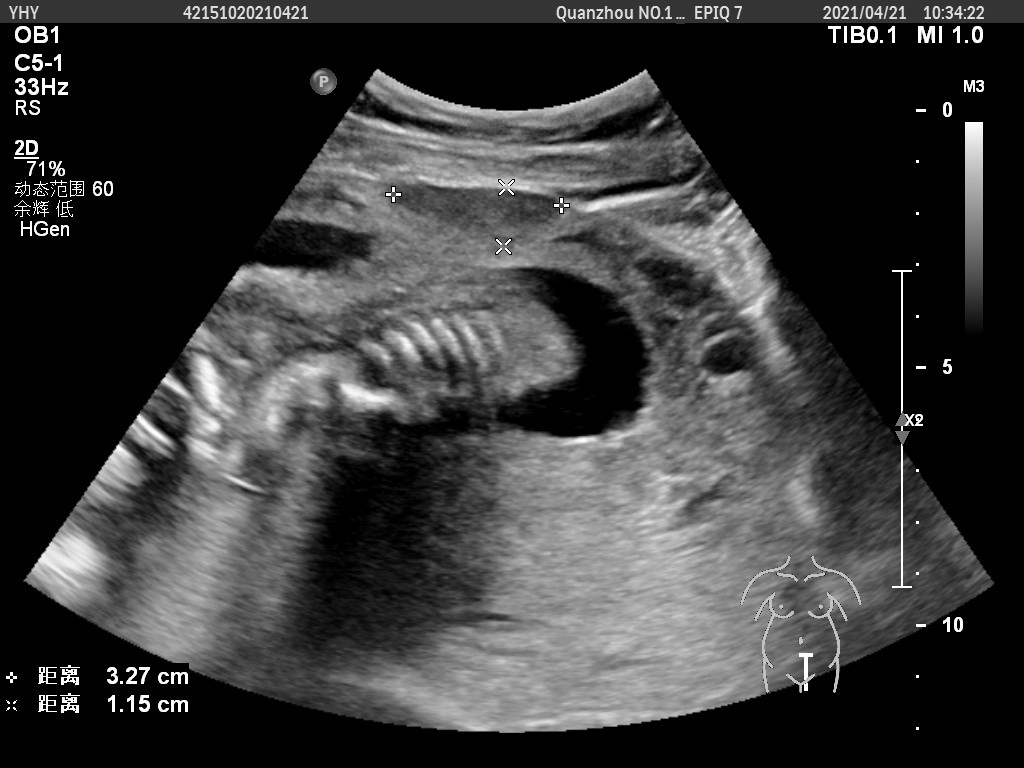肌瘤: (390, 185, 564, 245)
